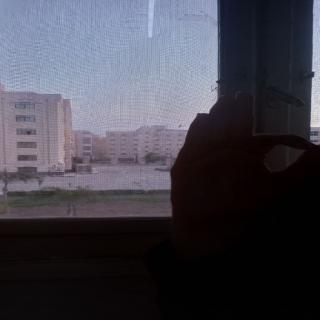Space: (161, 89, 320, 226)
